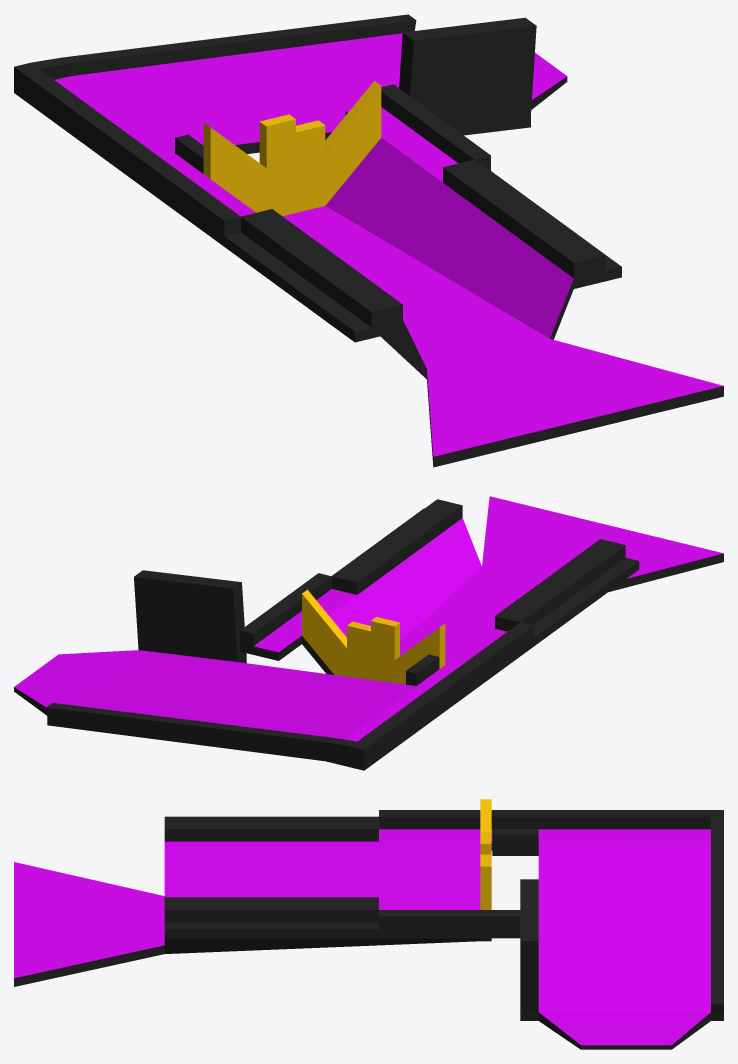
The model's file is 80'slevel.FBX.
3 renders of one model, top to bottom at view 1: azimuth 30°, elevation 25°; view 2: azimuth 150°, elevation 25°; view 3: azimuth 270°, elevation 25°, orthographic. The views are drawn at different scales.
Parts seen in each view (by area): view 1: Box001; view 2: Box001; view 3: Box001.
Part boxes in pixels (x1=…): Box001: x1=14, y1=14, x2=723, y2=467; Box001: x1=14, y1=496, x2=723, y2=770; Box001: x1=14, y1=799, x2=723, y2=1049.
Size of the model in its own units: 605 by 157 by 945.
